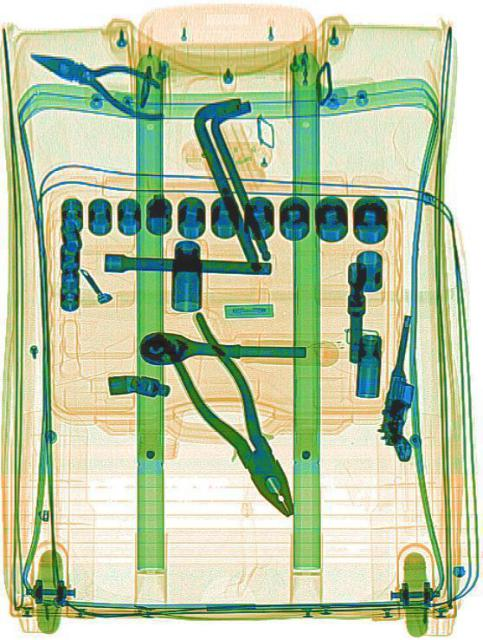Gun: (370, 310, 440, 462)
Pliers: (156, 305, 311, 535), (24, 32, 170, 126)
